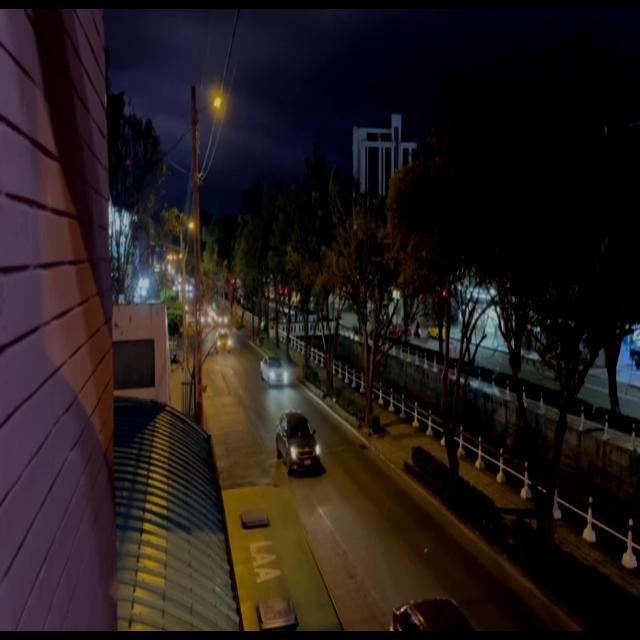CMT: (277, 413, 317, 475)
SUV: (263, 357, 286, 386)
